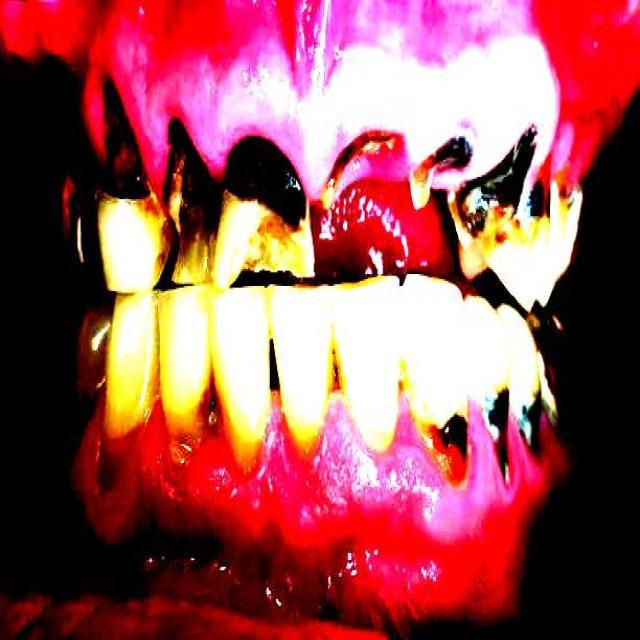caries: (227, 121, 306, 267), (161, 110, 222, 270), (86, 74, 151, 210), (470, 127, 540, 246), (417, 127, 470, 202), (431, 401, 473, 484), (485, 384, 518, 484), (520, 384, 556, 471), (260, 325, 295, 401)
